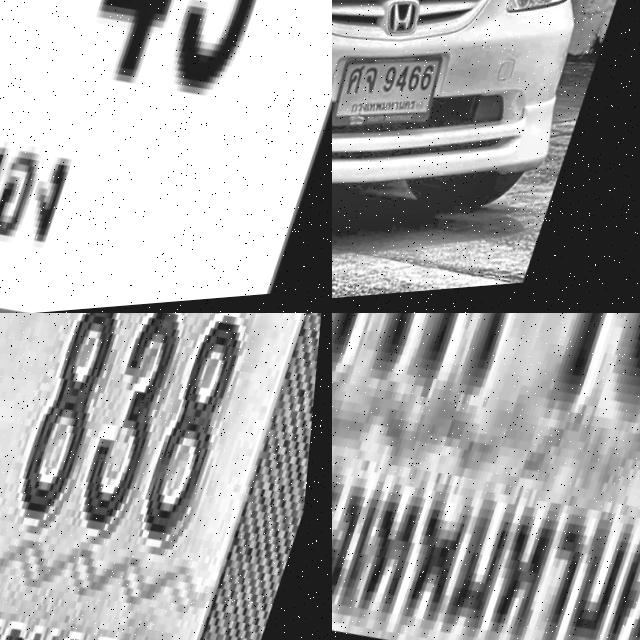license-plate: (0, 313, 332, 640), (0, 0, 332, 313), (332, 313, 640, 640), (332, 34, 460, 159)
